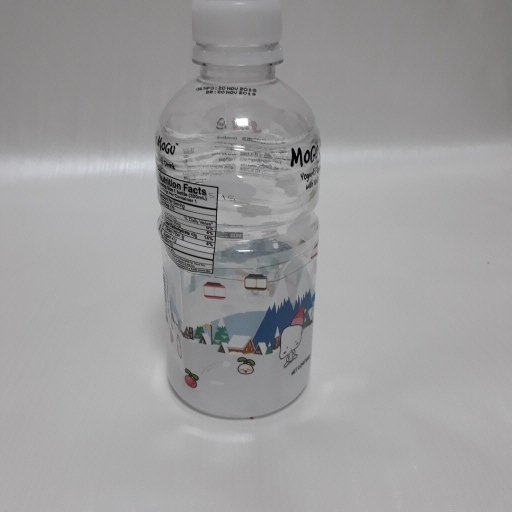Plastic_0: (152, 1, 319, 419)
